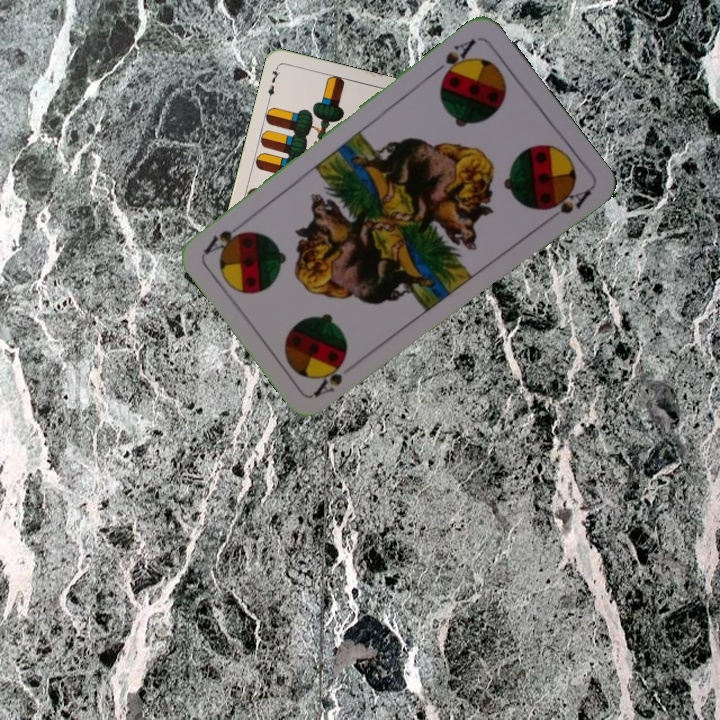E7: (264, 63, 283, 103)
SA: (429, 34, 479, 84), (310, 359, 347, 400)
